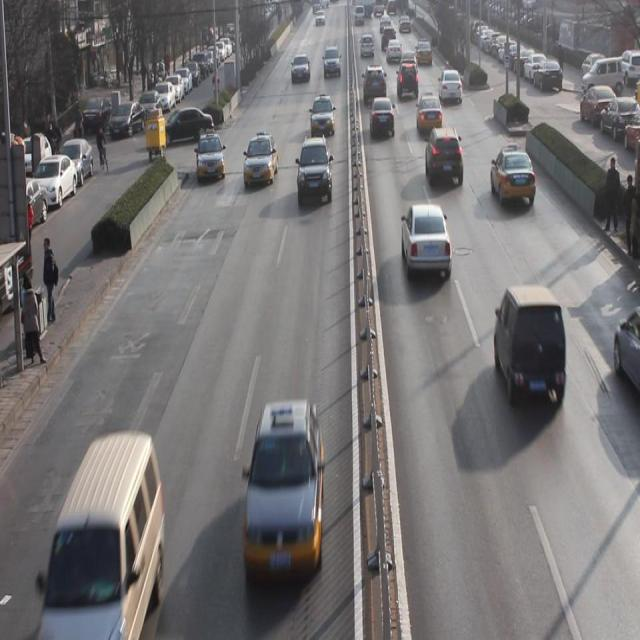car: (248, 400, 324, 578), (401, 204, 452, 284), (489, 144, 538, 210), (298, 136, 334, 206), (427, 126, 465, 190), (614, 305, 640, 391), (243, 134, 279, 186), (196, 138, 226, 182), (418, 91, 443, 137), (310, 93, 335, 138), (370, 92, 394, 138), (363, 66, 388, 103), (439, 69, 464, 103), (397, 63, 419, 97), (323, 45, 342, 77), (290, 53, 310, 82)
truck: (45, 436, 164, 633), (493, 285, 567, 410)
